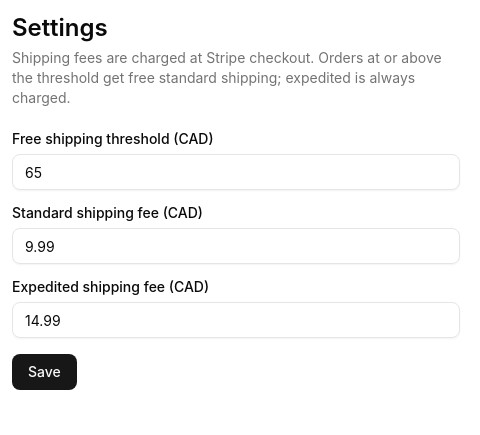
it: SettingsPage › rejects values with more than 2 decimals
Replace the text in the number field labelled "Standard shipping fee (CAD)" with "10.999" at point(236, 246), box [12, 228, 460, 264]
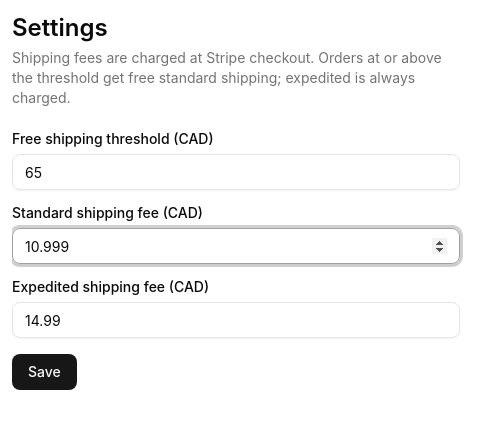
Click the button "Save" at point(44, 372), box [12, 354, 77, 390]
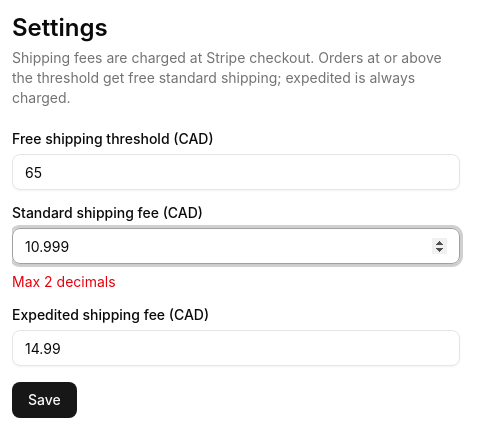
Now the text "Max 2 decimals" is shown, box [12, 273, 116, 290]
